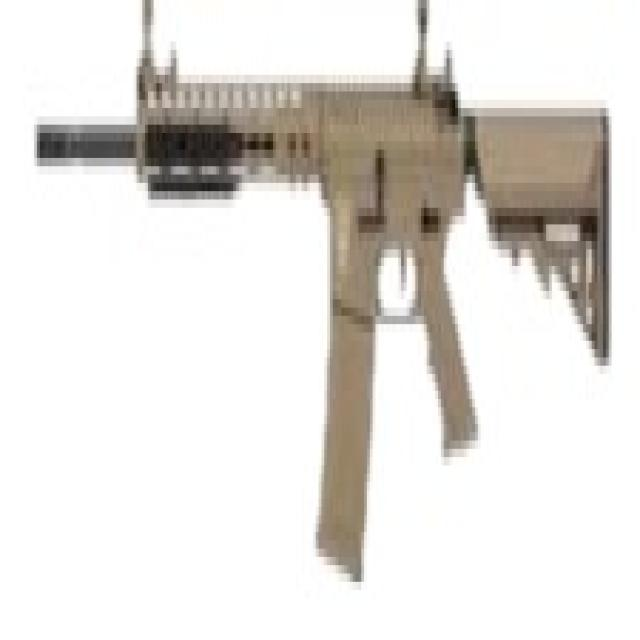rifle: (32, 1, 619, 605)
